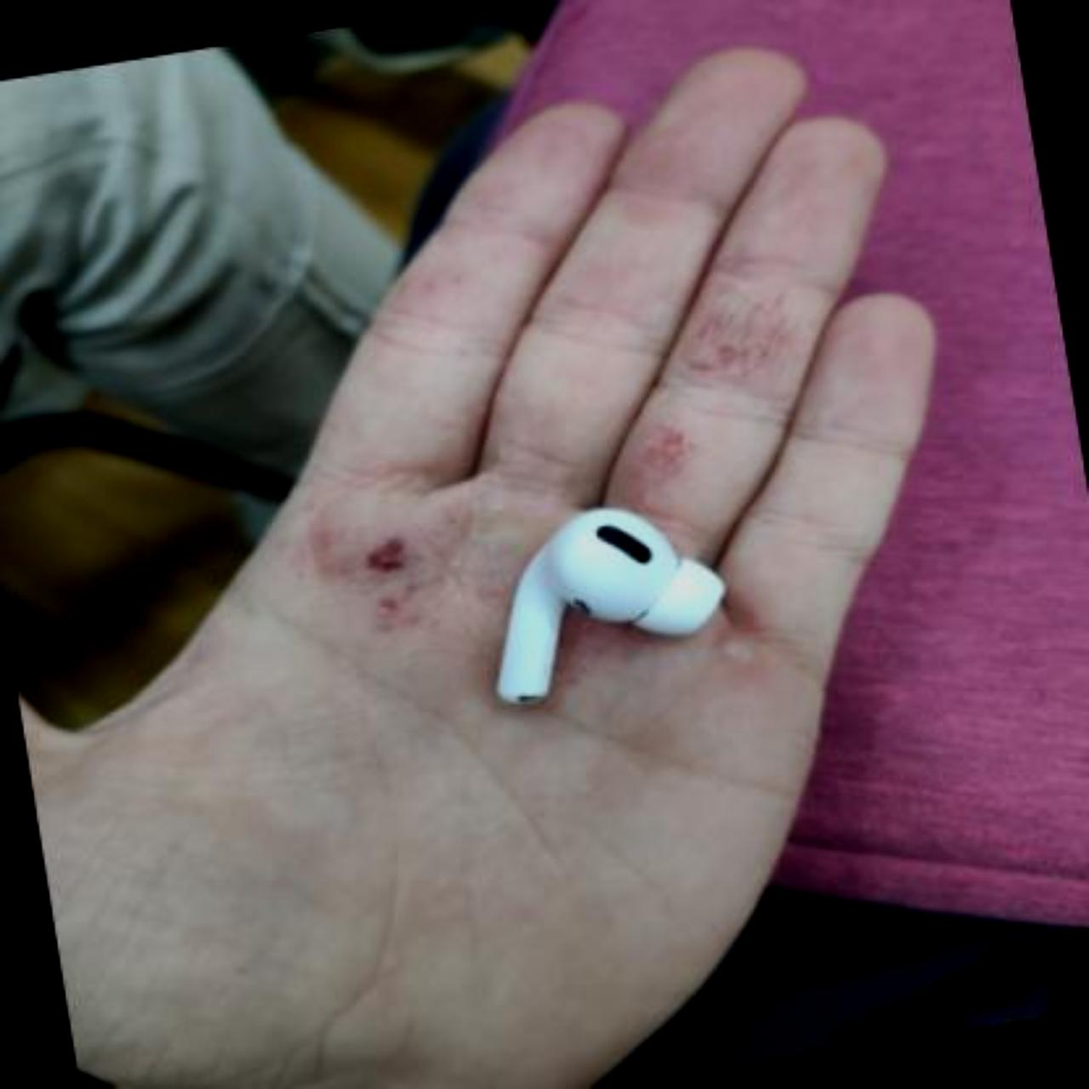Airpods_Units: (475, 479, 741, 741)
